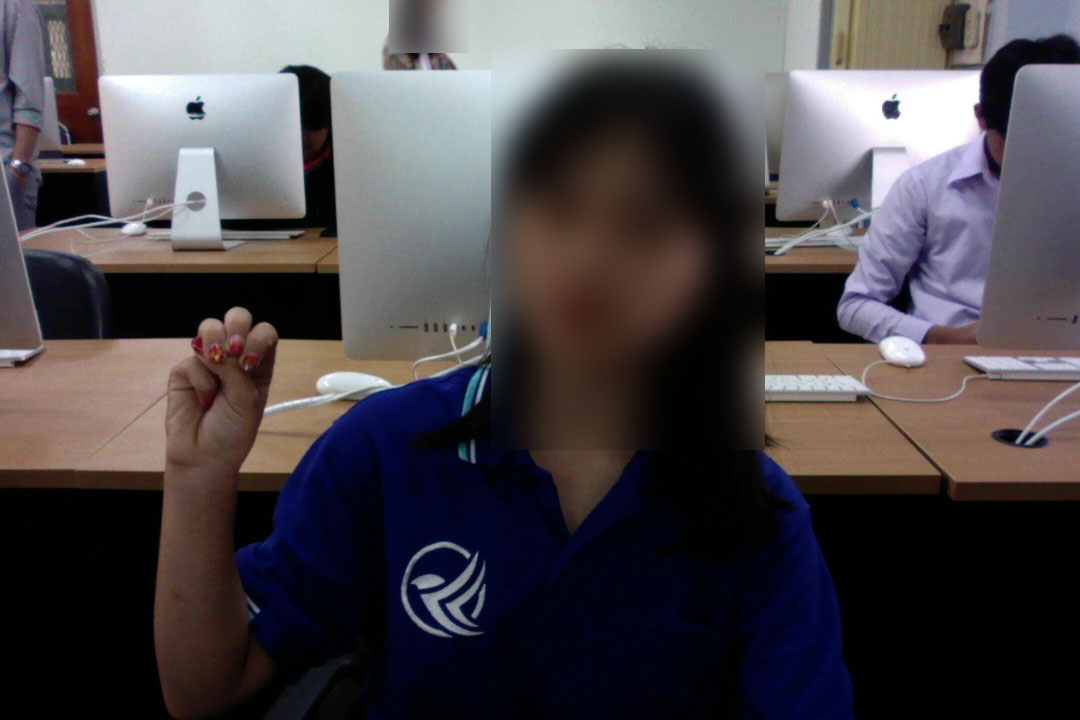mor: (160, 297, 280, 495)
